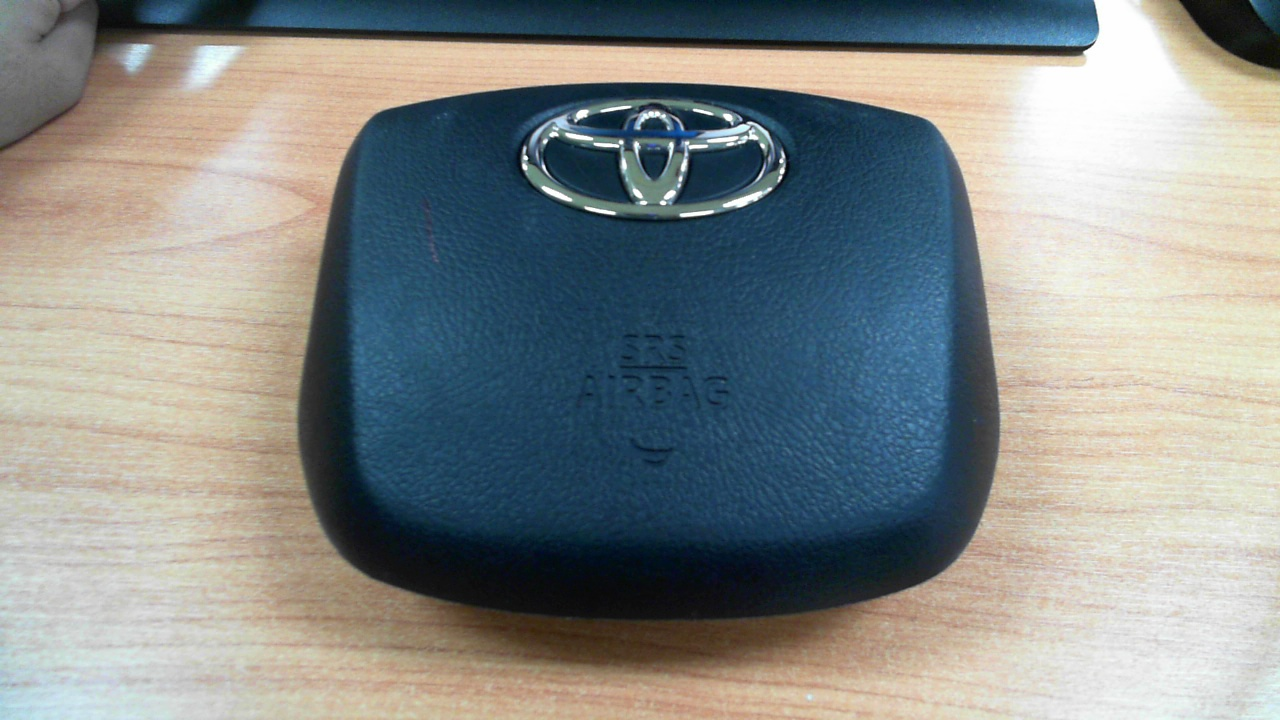Airbag: (302, 79, 997, 624)
Toyota: (521, 98, 787, 220)
